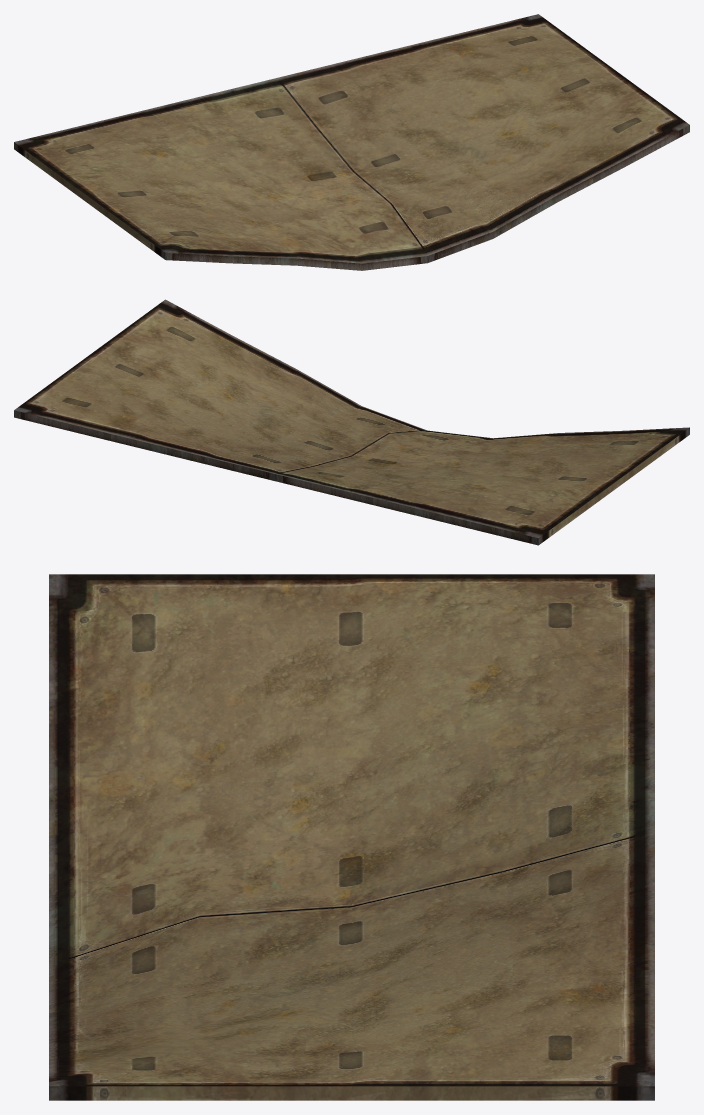
Rendered from pptiling_light_damaged02.dae.
3 renders of one model, top to bottom at view 1: azimuth 30°, elevation 25°; view 2: azimuth 150°, elevation 25°; view 3: azimuth 270°, elevation 25°, orthographic. The views are drawn at different scales.
Parts seen in each view (by area): view 1: pCube3; view 2: pCube3; view 3: pCube3.
Part boxes in pixels (bbox=[...]): pCube3: bbox=[14, 14, 689, 270]; pCube3: bbox=[14, 299, 689, 545]; pCube3: bbox=[49, 574, 654, 1100].
Size of the model in its own units: 4 by 0.5414 by 2.
